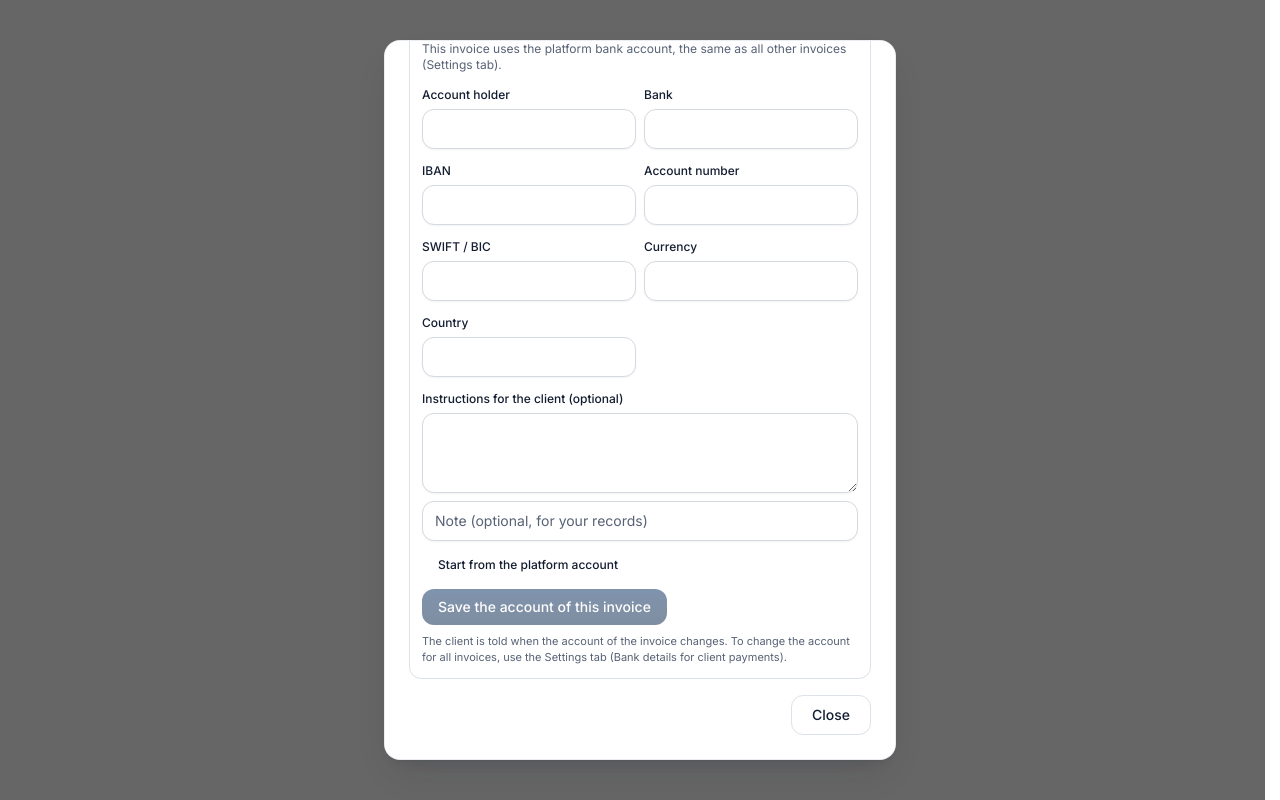
Scenario: InvoiceBankControls › fills the form from the platform account on request
(page scrolled)
Click the button "Start from the platform account": (528, 564) [422, 548, 634, 580]
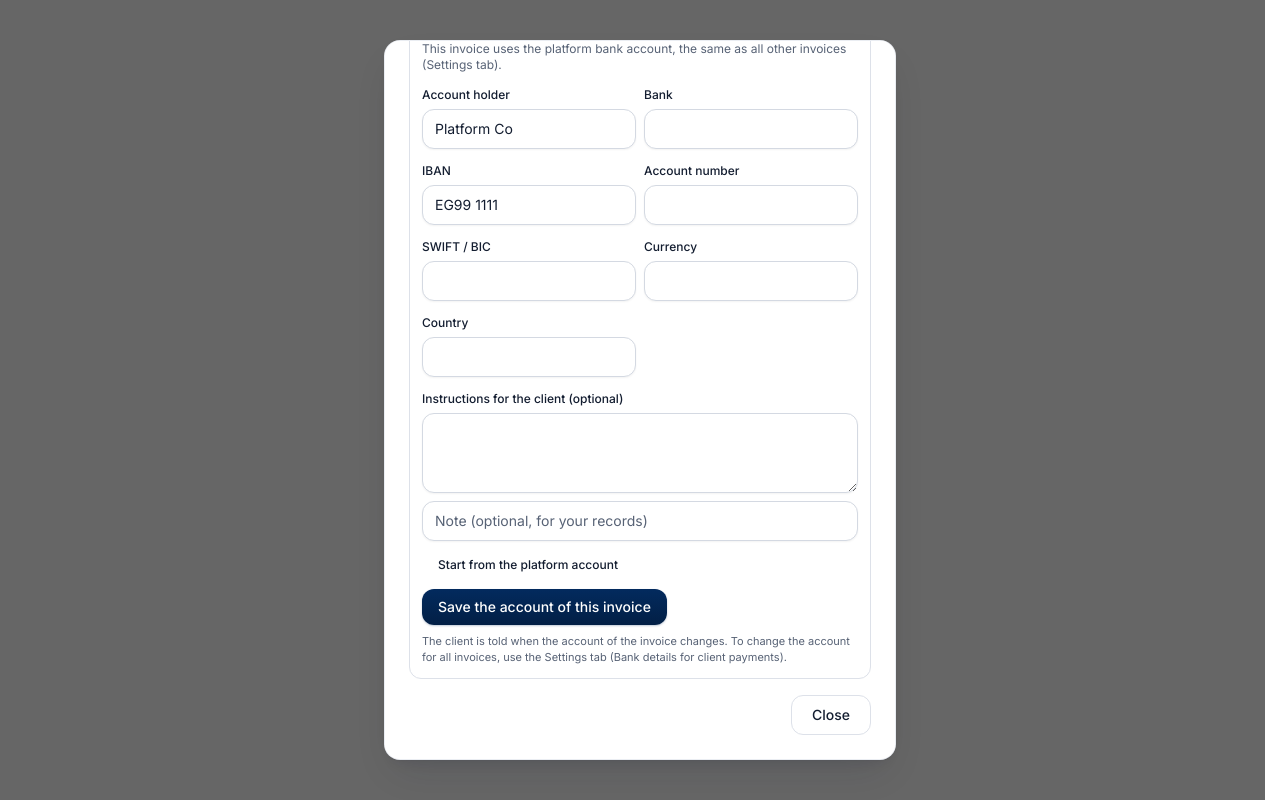
Now the field named "Account holder" holds "Platform Co", box [422, 108, 636, 148]
Now the field named "IBAN" holds "EG99 1111", box [422, 184, 636, 224]
